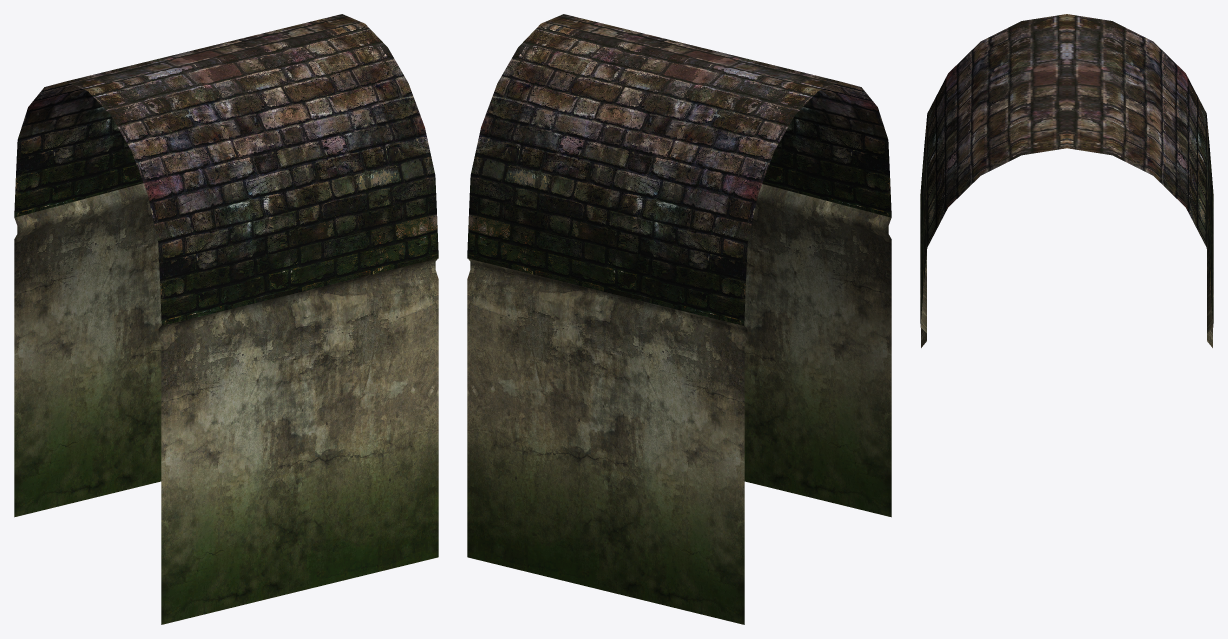
Rendered from wall_tunnel_high_small.DAE.
The picture shows the model from 3 angles, left to right: view 1: azimuth 30°, elevation 25°; view 2: azimuth 150°, elevation 25°; view 3: azimuth 270°, elevation 25°; orthographic projection.
Parts seen in each view (by area): view 1: tunnel_high_small_walls, tunnel_high_small_ceiling001; view 2: tunnel_high_small_walls, tunnel_high_small_ceiling001; view 3: tunnel_high_small_ceiling001, tunnel_high_small_walls.
Boxes of the visible parts, <box> form: tunnel_high_small_walls: <box>14,183,438,624</box>; tunnel_high_small_ceiling001: <box>14,14,438,325</box>; tunnel_high_small_walls: <box>467,184,891,624</box>; tunnel_high_small_ceiling001: <box>467,14,891,325</box>; tunnel_high_small_ceiling001: <box>920,14,1213,327</box>; tunnel_high_small_walls: <box>921,253,1212,347</box>.
Size of the model in its own units: 2 by 1.84 by 3.31.
